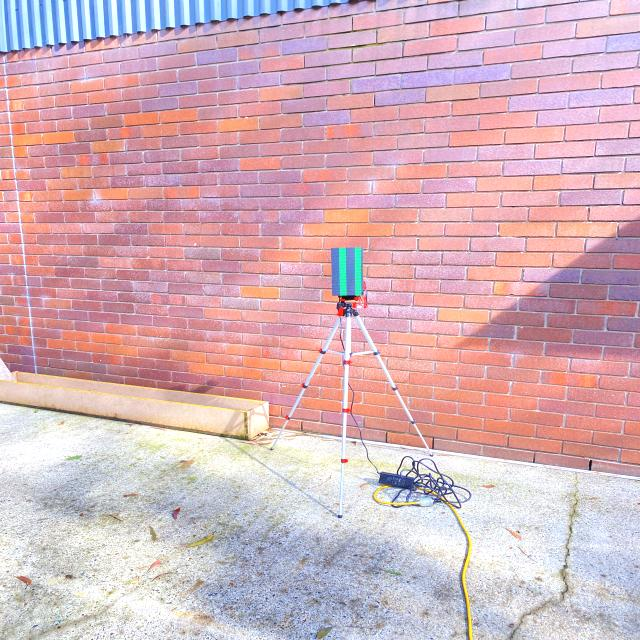matrix: (324, 240, 373, 302)
